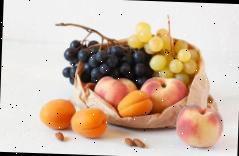organic: (58, 21, 146, 82), (124, 13, 204, 80), (178, 104, 228, 152), (140, 72, 194, 113), (37, 94, 74, 132), (117, 90, 157, 122), (64, 108, 106, 138)
